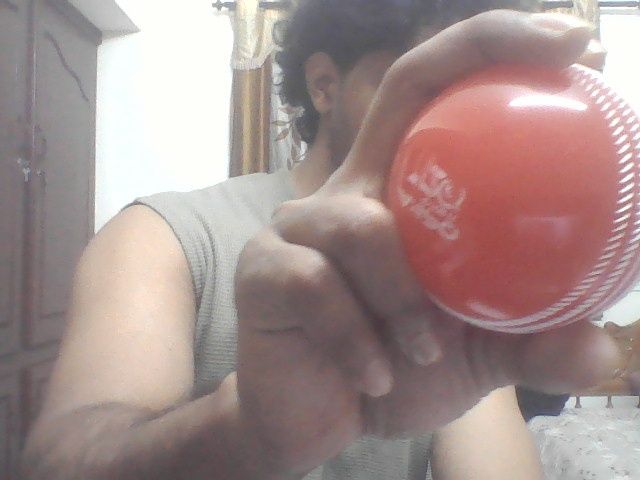cricket_ball: (392, 57, 640, 334)
